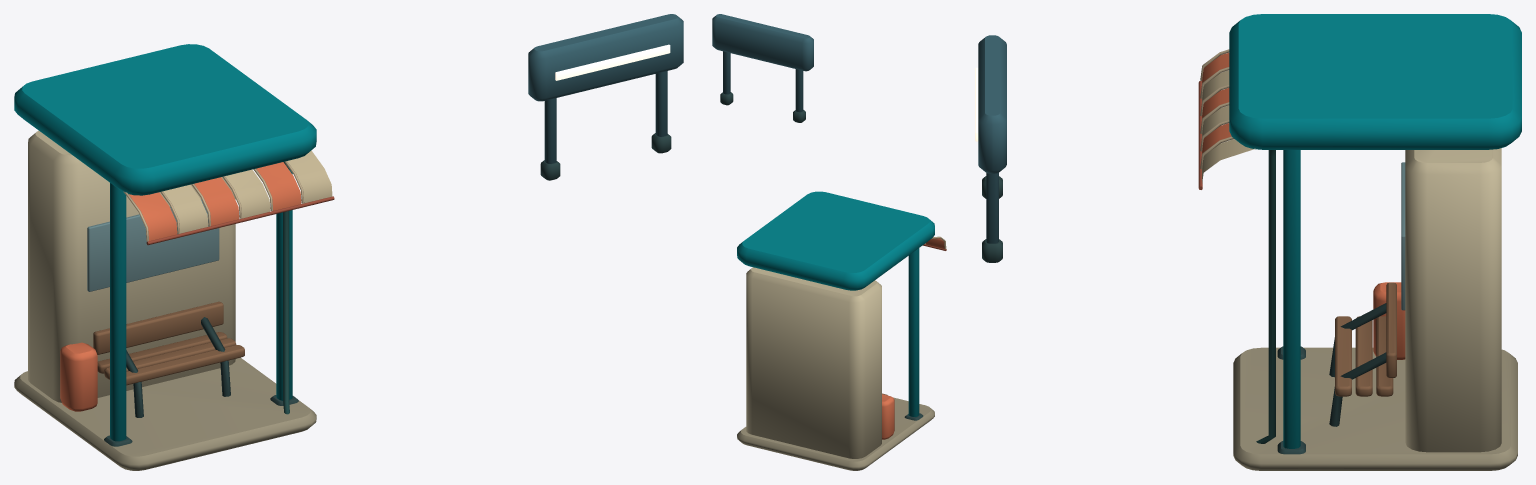
The model's file is ocean_vip_park_4.glb.
The picture shows the model from 3 angles, left to right: view 1: azimuth 30°, elevation 25°; view 2: azimuth 150°, elevation 25°; view 3: azimuth 270°, elevation 25°; orthographic projection. The views are drawn at different scales.
Visible parts, largest first — view 1: VipPark4; view 2: VipPark4; view 3: VipPark4.
Boxes of the visible parts, <box> form: VipPark4: <box>14,14,683,470</box>; VipPark4: <box>712,14,946,470</box>; VipPark4: <box>975,14,1521,470</box>.
Bounding box in the file's own units: 5.28 × 4.8 × 4.77.
